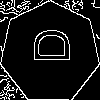D: (25, 28, 69, 64)
